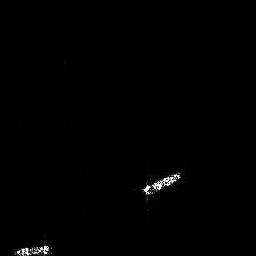ship: (143, 172, 181, 195), (16, 243, 49, 256)
